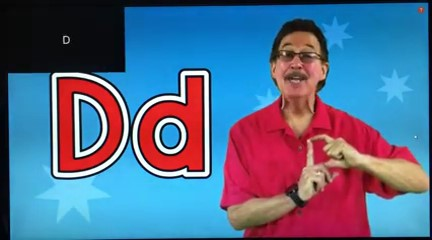D: (296, 133, 361, 205)
